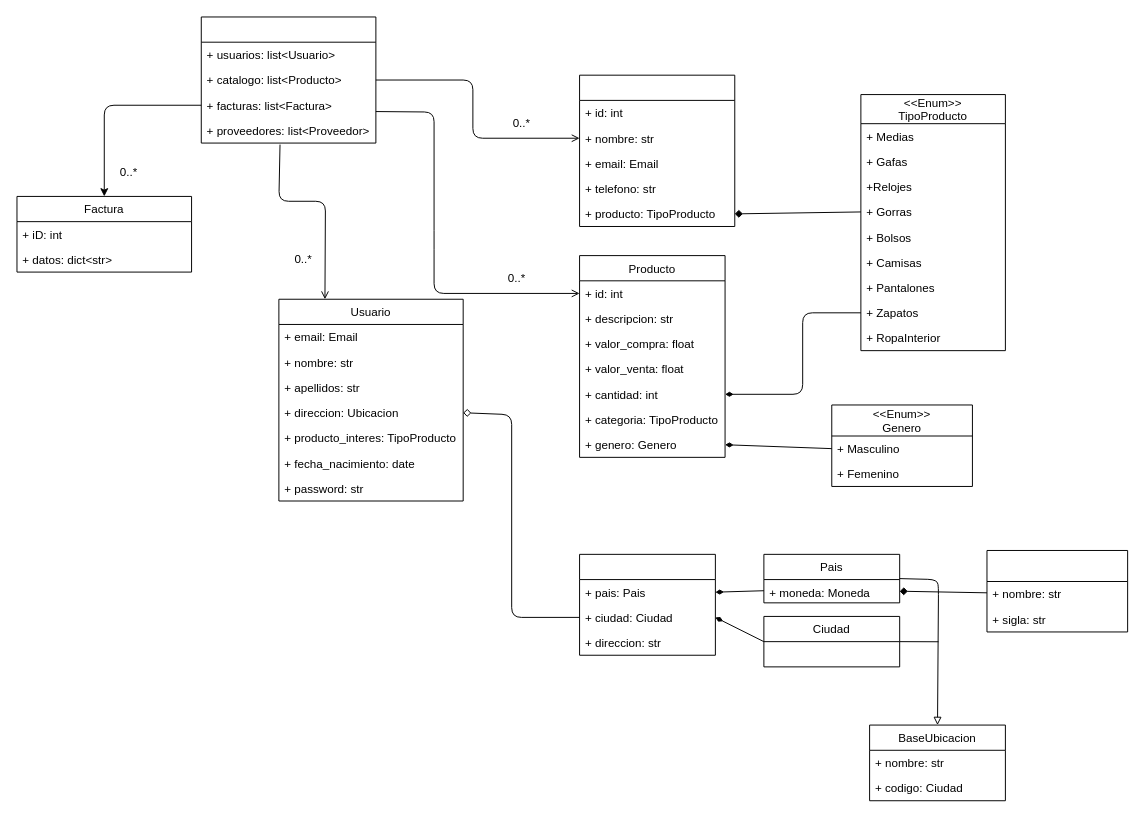
Image size: 1145x821. Some labels were removed from this diagram. Here are the shapes that lost their labels. From the top down, the box of each, then its label:
(200, 16, 376, 143): Tienda
(579, 74, 735, 226): Proveedor
(579, 553, 715, 655): Ubicacion
(986, 550, 1128, 632): Moneda
